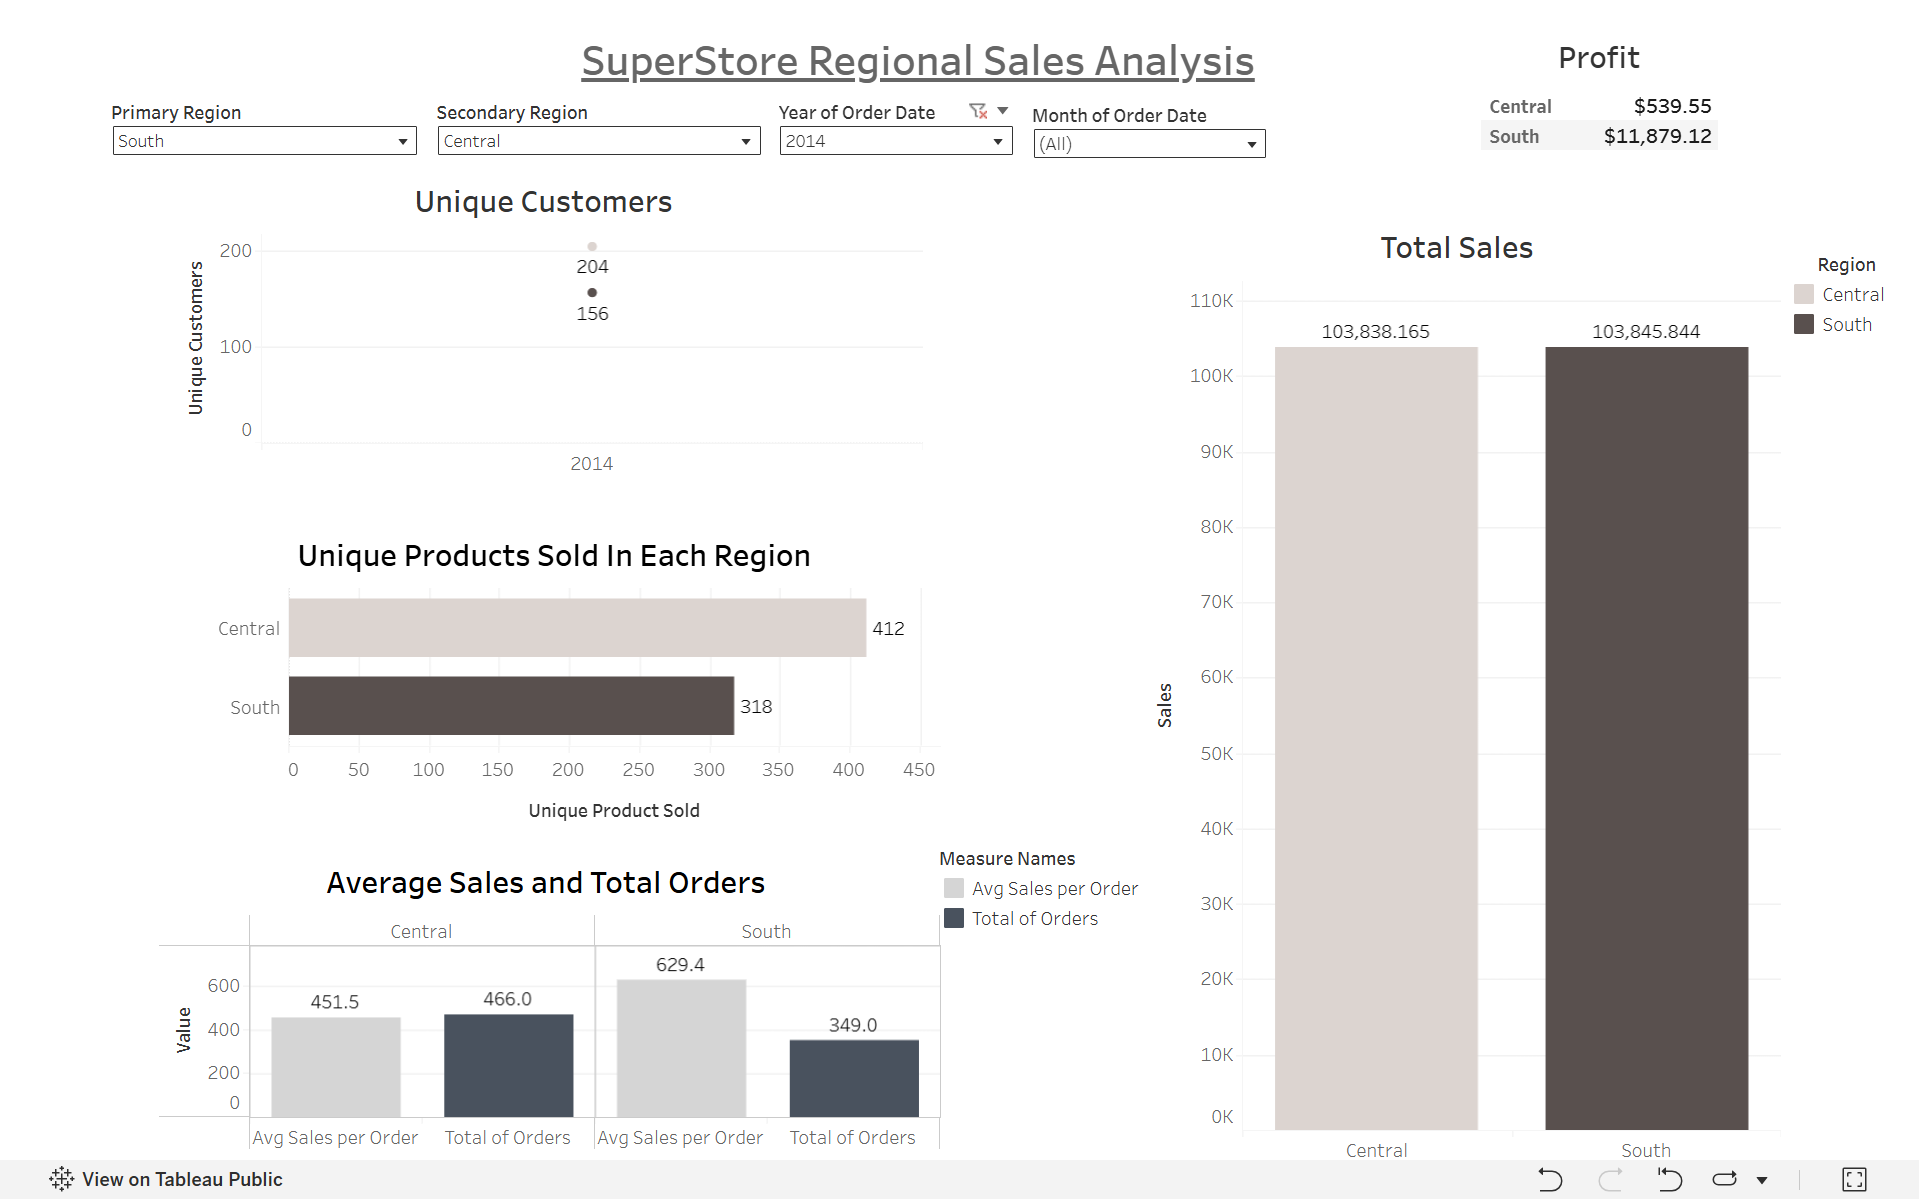

The dashboard page shown, as its layout file describes it:
{"tool":"tableau","page":{"name":"Dashboard 1","canvas":[1000,1000],"units":"permille","ordinal":0},"visuals":[{"type":"text","box":[242.8,6.3,470.7,87.8]},{"type":"worksheet","title":"Sheet 5","mark":"Automatic","rows":["Region"],"box":[770.9,21.9,171.7,167.7]},{"type":"parameter","param":"[Parameters].[Parameter 1]","box":[57.5,84.6,160.2,65.8]},{"type":"parameter","param":"[Parameters].[Parameter 2]","box":[227.6,84.6,169.3,73.7]},{"type":"filter","title":"Sheet 1","param":"[federated.16u9y2v0gbl93h18o0pgm0v2n4fz].[yr:Order Date:ok]","box":[405.4,84.6,122.6,75.2]},{"type":"filter","title":"Sheet 1","param":"[federated.16u9y2v0gbl93h18o0pgm0v2n4fz].[mn:Order Date:ok]","box":[537.2,86.2,122.6,75.2]},{"type":"worksheet","title":"Sheet 3","mark":"Automatic","rows":["Calculation_0014019557298286"],"cols":["Order Date"],"box":[88.9,145.8,391.6,264.9]},{"type":"worksheet","title":"Sheet 1","mark":"Automatic","rows":["Sales"],"cols":["Calculation_0014019552890979"],"box":[593.9,186.5,333.3,816.6]},{"type":"legend","title":"Sheet 1","param":"[federated.16u9y2v0gbl93h18o0pgm0v2n4fz].[none:Calculation_0014019552890979:nk]","box":[931.8,216.3,62.1,92.5]},{"type":"worksheet","title":"Sheet 4","mark":"Automatic","rows":["Calculation_0014019552890979"],"cols":["Calculation_0014019558559855"],"box":[87.4,451.4,402.3,264.9]},{"type":"legend","title":"Sheet 2","param":"[federated.16u9y2v0gbl93h18o0pgm0v2n4fz].[:Measure Names]","box":[488.9,728.8,118,127]},{"type":"worksheet","title":"Sheet 2","mark":"Automatic","cols":["Calculation_0014019552890979"],"box":[82.8,733.5,406.9,258.6]}]}

Visuals, with their boxes on the dashboard's canvas, which has no fixed pixel size, in thousandths of its width and height (x1, y1, x2, y2). These are canvas units, not pixel positions in the 1919x1199 screenshot, which may show the page scaled, cropped or inside an application window:
text: {"x1": 243, "y1": 6, "x2": 714, "y2": 94}
"Sheet 5" worksheet: {"x1": 771, "y1": 22, "x2": 943, "y2": 190}
parameter: {"x1": 58, "y1": 85, "x2": 218, "y2": 150}
parameter: {"x1": 228, "y1": 85, "x2": 397, "y2": 158}
"Sheet 1" filter: {"x1": 405, "y1": 85, "x2": 528, "y2": 160}
"Sheet 1" filter: {"x1": 537, "y1": 86, "x2": 660, "y2": 161}
"Sheet 3" worksheet: {"x1": 89, "y1": 146, "x2": 480, "y2": 411}
"Sheet 1" worksheet: {"x1": 594, "y1": 186, "x2": 927, "y2": 1003}
"Sheet 1" legend: {"x1": 932, "y1": 216, "x2": 994, "y2": 309}
"Sheet 4" worksheet: {"x1": 87, "y1": 451, "x2": 490, "y2": 716}
"Sheet 2" legend: {"x1": 489, "y1": 729, "x2": 607, "y2": 856}
"Sheet 2" worksheet: {"x1": 83, "y1": 734, "x2": 490, "y2": 992}
